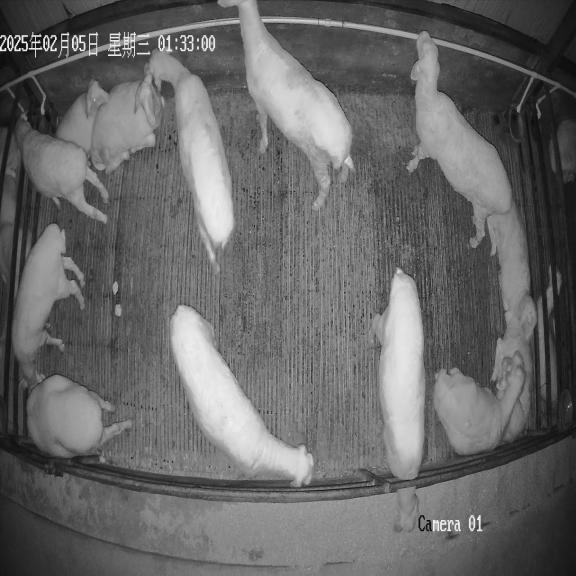drinking: (15, 114, 109, 224)
eating: (369, 268, 425, 532)
lying: (434, 352, 526, 455), (90, 71, 164, 173), (486, 201, 537, 341), (491, 334, 533, 442), (56, 80, 108, 153)
stand: (218, 0, 354, 210), (169, 305, 313, 486), (407, 31, 512, 247), (145, 52, 234, 274), (11, 224, 85, 386), (27, 375, 131, 458)
